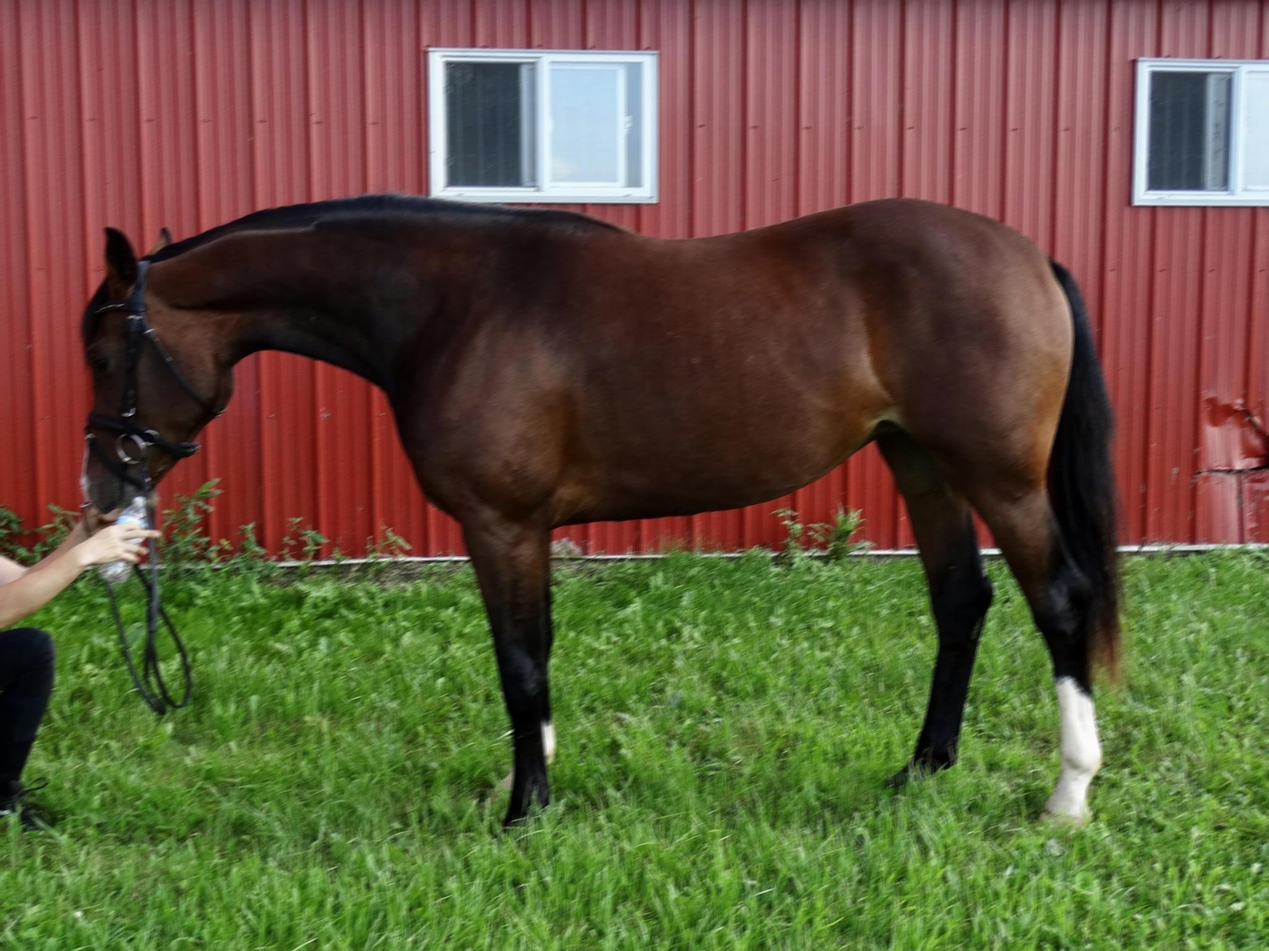horse: (66, 180, 1142, 847)
